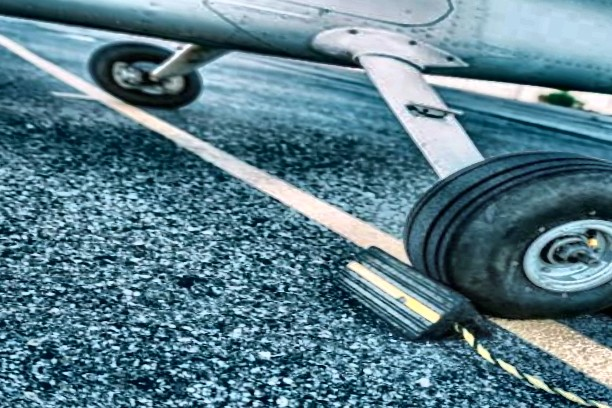chock: (309, 236, 514, 355)
wheel: (377, 128, 612, 344), (71, 30, 213, 116)
